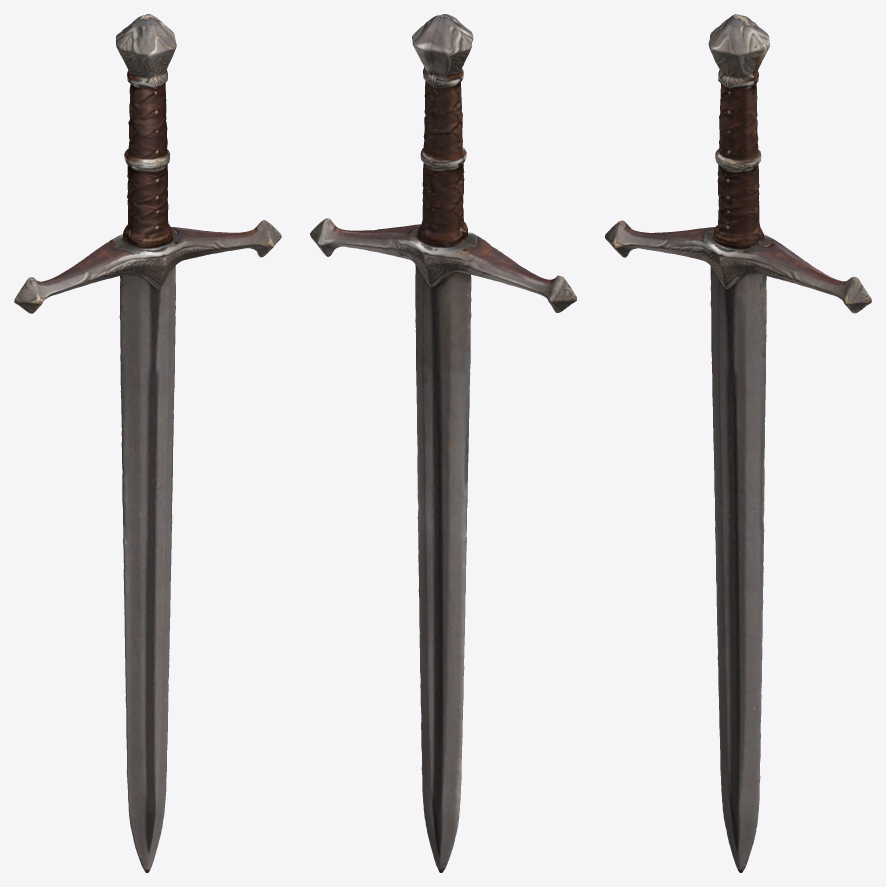
File: PF_Sword1.glb
3 renders of one model, left to right at view 1: azimuth 30°, elevation 25°; view 2: azimuth 150°, elevation 25°; view 3: azimuth 330°, elevation 25°, orthographic.
Size of the model in its own units: 0.6157 by 1.89 by 0.1412.
Materials: 1 (1 with a texture image).
